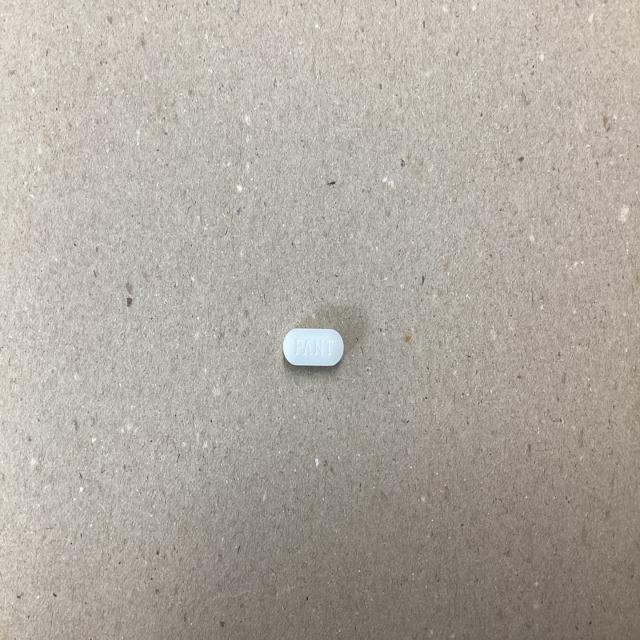-: (279, 312, 351, 385)
